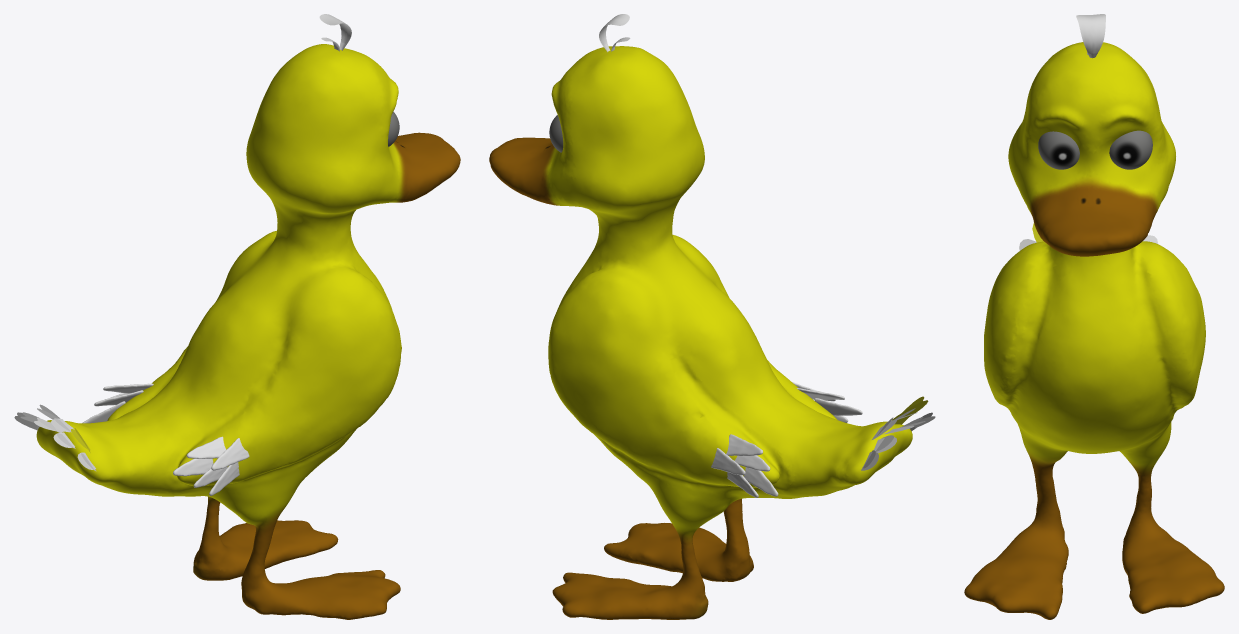
The model's file is canard2022-11-24_05-01-49.fbx.
3 renders of one model, left to right at view 1: azimuth 30°, elevation 25°; view 2: azimuth 150°, elevation 25°; view 3: azimuth 270°, elevation 25°, orthographic. The views are drawn at different scales.
Visible parts, largest first — view 1: Sphere, Square.0004, Square.0005; view 2: Sphere, Square.0005, Square.0004; view 3: Sphere (×2), Cube.
Part boxes in pixels (x1,y1,x2,y2): Sphere: (36, 44, 460, 619); Square.0004: (173, 436, 249, 495); Square.0005: (82, 383, 153, 423); Sphere: (489, 46, 912, 619); Square.0005: (711, 434, 778, 497); Square.0004: (792, 382, 862, 422); Sphere (×2): (964, 42, 1224, 619); Cube: (1076, 14, 1105, 58).
Size of the model in its own units: 190 by 244 by 97.38.
